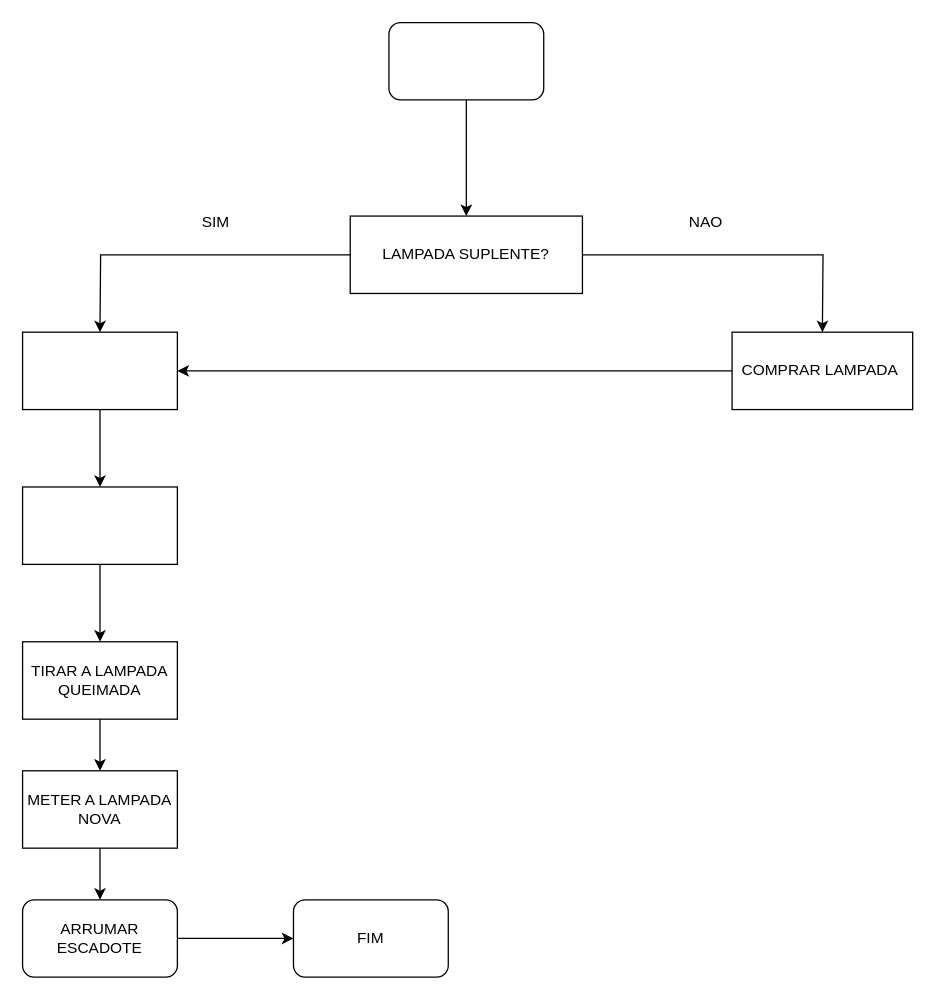
The diagram is 935 pixels wide and 1000 high, and some of its shapes have lost their labels. Here are the shapes that lost their labels. From the top down, the centre of each, then its label:
(466,60): INICIO
(99,370): PEGAR A SUPLENTE
(99,525): PEGAR O ESCADOTE
